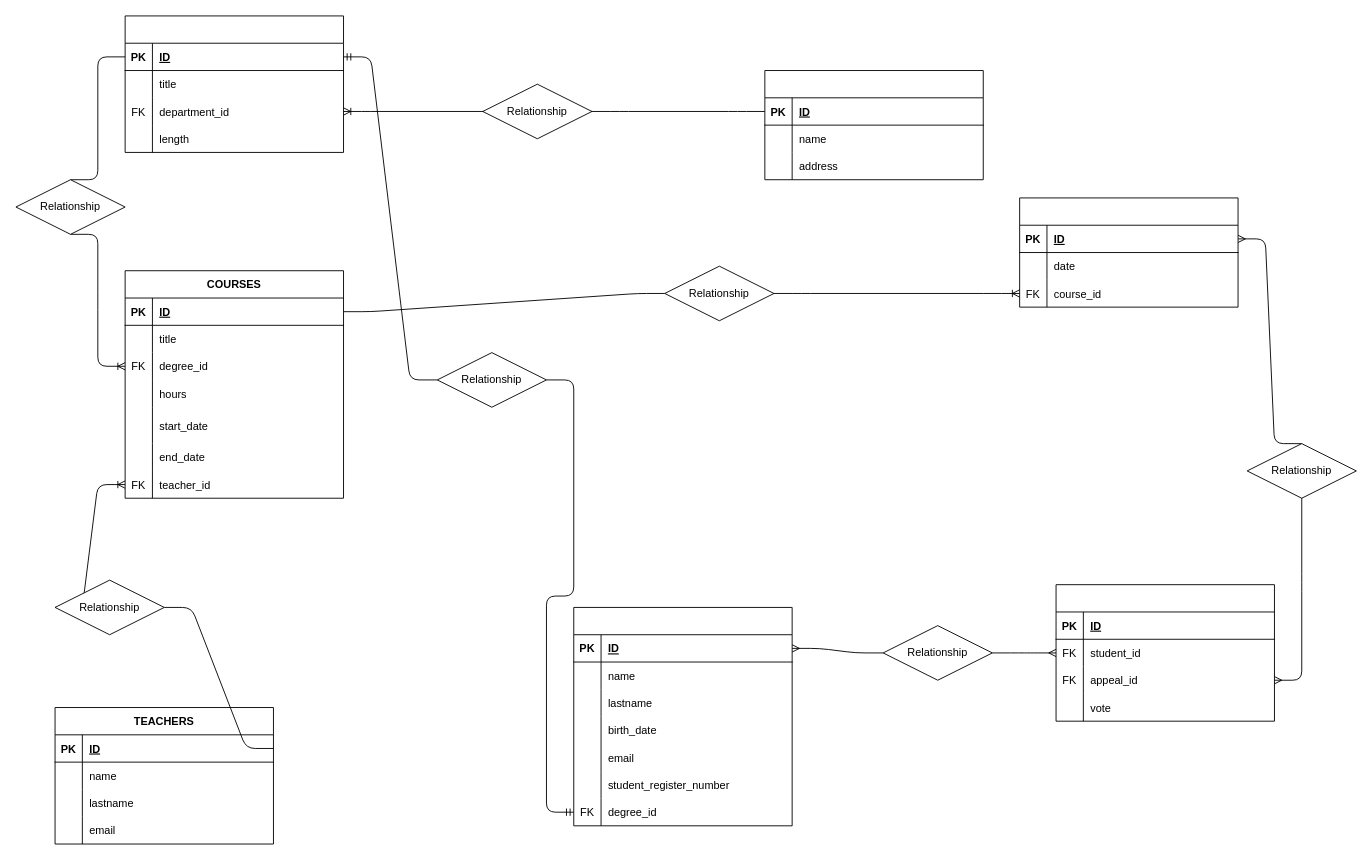
The diagram is 1372 pixels wide and 860 high, and some of its shapes have lost their labels. Each missing label, with the box of its shape:
APPEALS: (1019, 197, 1238, 307)
APPEALS_REGISTRATION: (1055, 584, 1274, 721)
DEGREE: (124, 15, 344, 152)
DEPARTMENTS: (764, 70, 983, 180)
STUDENTS: (573, 607, 792, 826)
